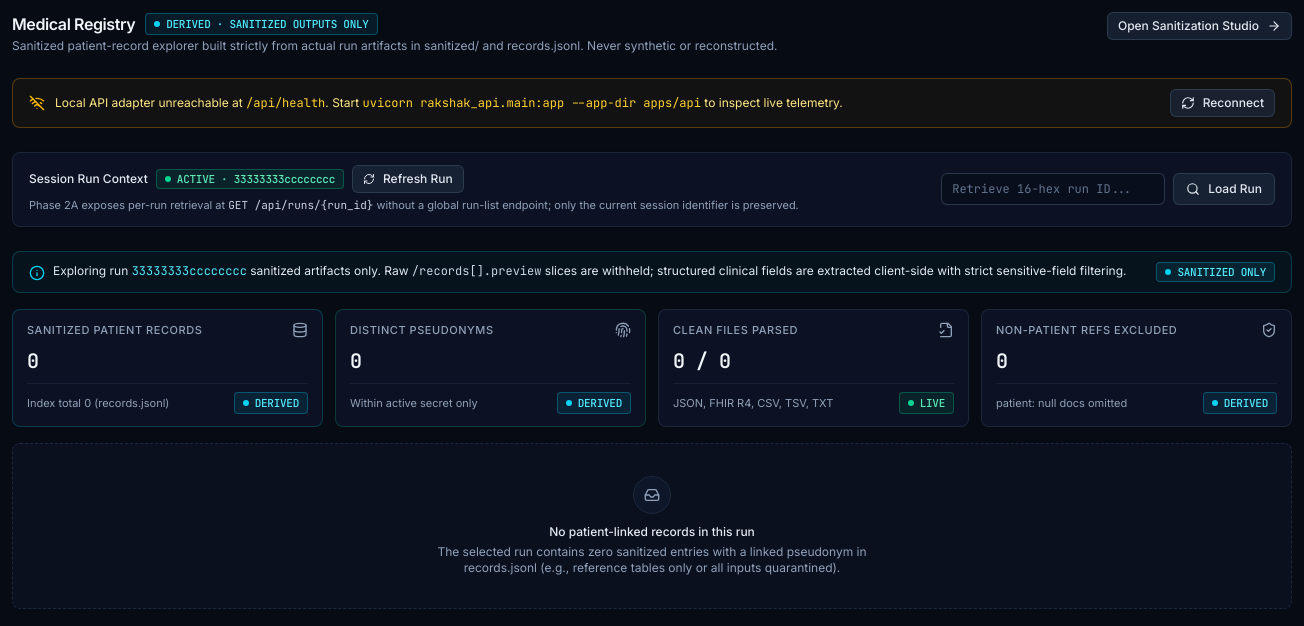
Test: MedicalRegistryPage exploration, filtering, sorting, pagination & privacy › handles invalid API schema responses, empty index runs, and backend offline states gracefully
This screenshot has width=1304, height=626.
Expected: the text "Local API adapter unreachable" is shown, [55, 95, 246, 110]
Expected: the text "No patient-linked records in this run" is shown, [549, 524, 755, 540]
Type "44444444dddddddd" into the field named "Retrieve run ID" at (1053, 189), box [941, 173, 1165, 205]
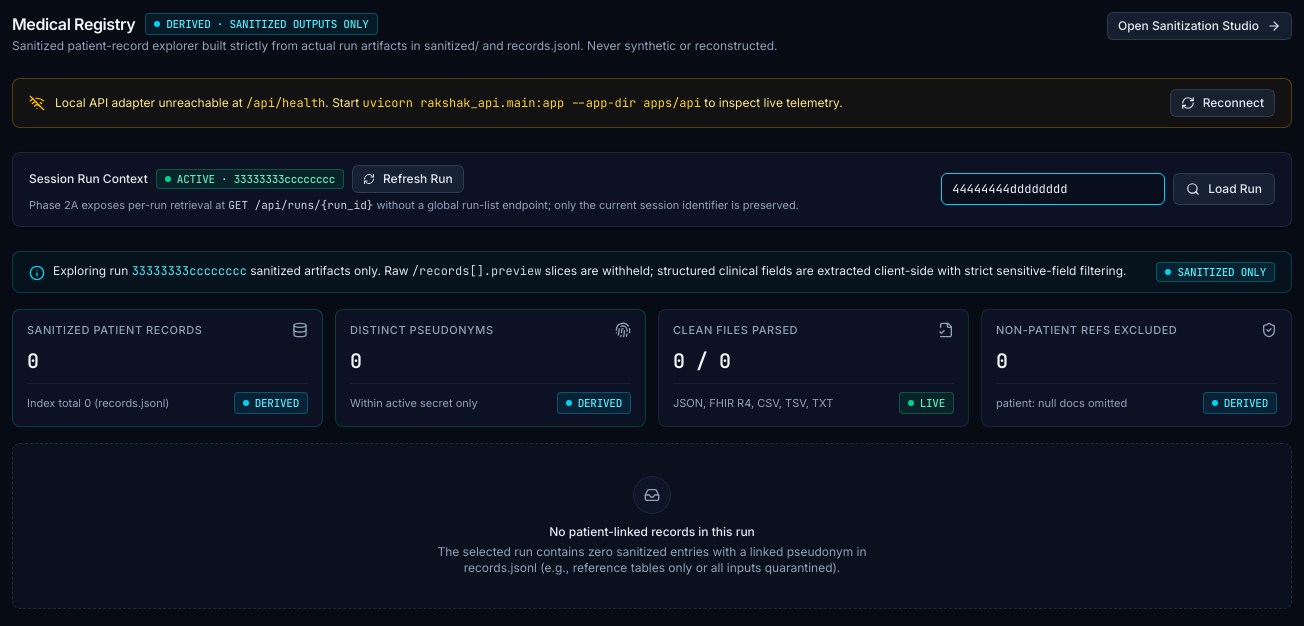
Click the button "Load Run" at (1224, 189), box [1173, 173, 1275, 205]
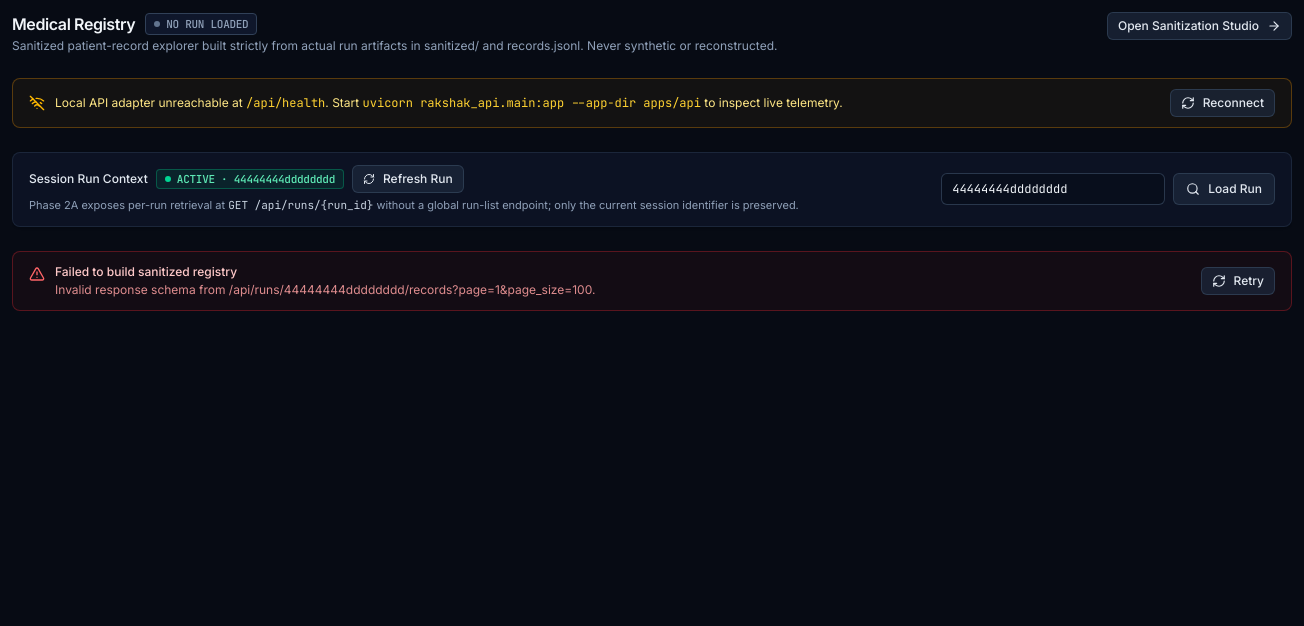
Expected: the text "Failed to build sanitized registry" is shown, [55, 264, 237, 278]
